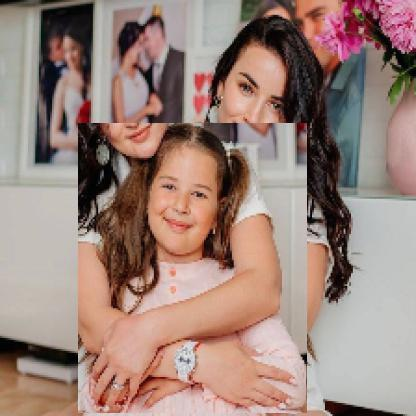child: (79, 124, 309, 415)
